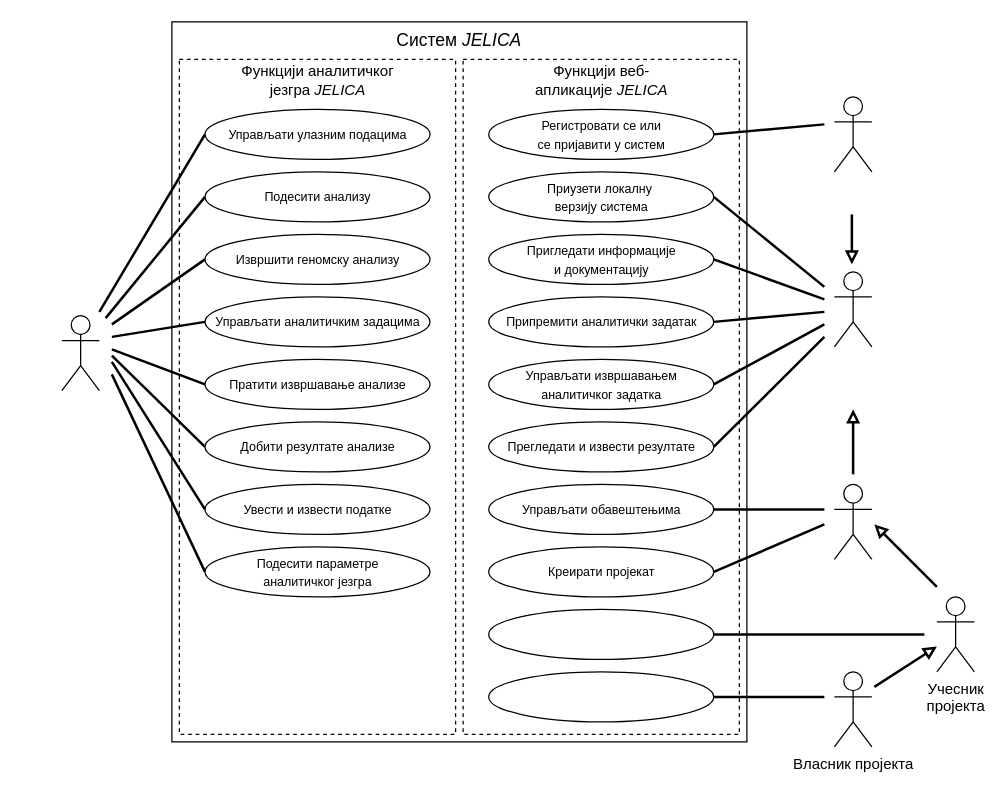
Image size: 1006x795. Some labels were removed from this diagram. Each missing label, with the centre of its shape:
{abstract} Корисник веб-апликације: the point at 852,309
Користник интерфејса командне линије: the point at 80,352
Нерегистровани корисник: the point at 852,134
Регистровани корисник: the point at 852,521
Сарађивати на пројекту: the point at 601,633
Управљати учесницима пројекта: the point at 601,696
